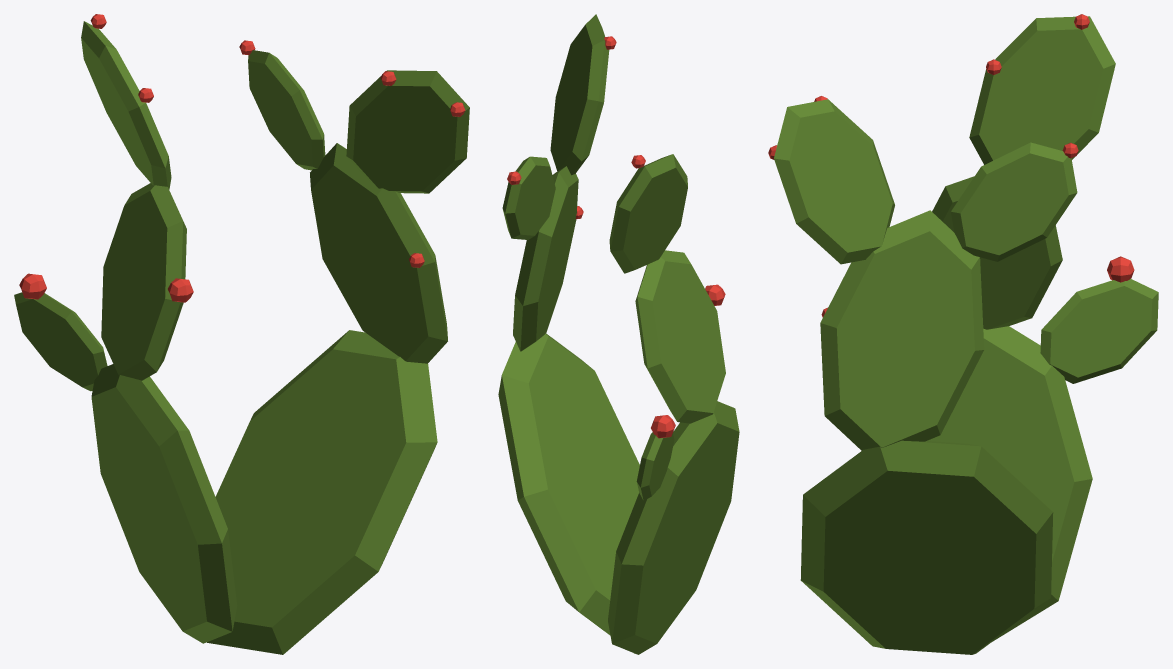
File: Cactus_5.fbx
The picture shows the model from 3 angles, left to right: view 1: azimuth 30°, elevation 25°; view 2: azimuth 150°, elevation 25°; view 3: azimuth 270°, elevation 25°; orthographic projection. The views are drawn at different scales.
Visible parts, largest first — view 1: Cactus_5; view 2: Cactus_5; view 3: Cactus_5.
Boxes of the visible parts, x1,y1,x2,y2 form: Cactus_5: (14,14,469,654); Cactus_5: (498,14,739,654); Cactus_5: (768,14,1158,654).
Bounding box in the file's own units: 82.07 × 95.42 × 166.
